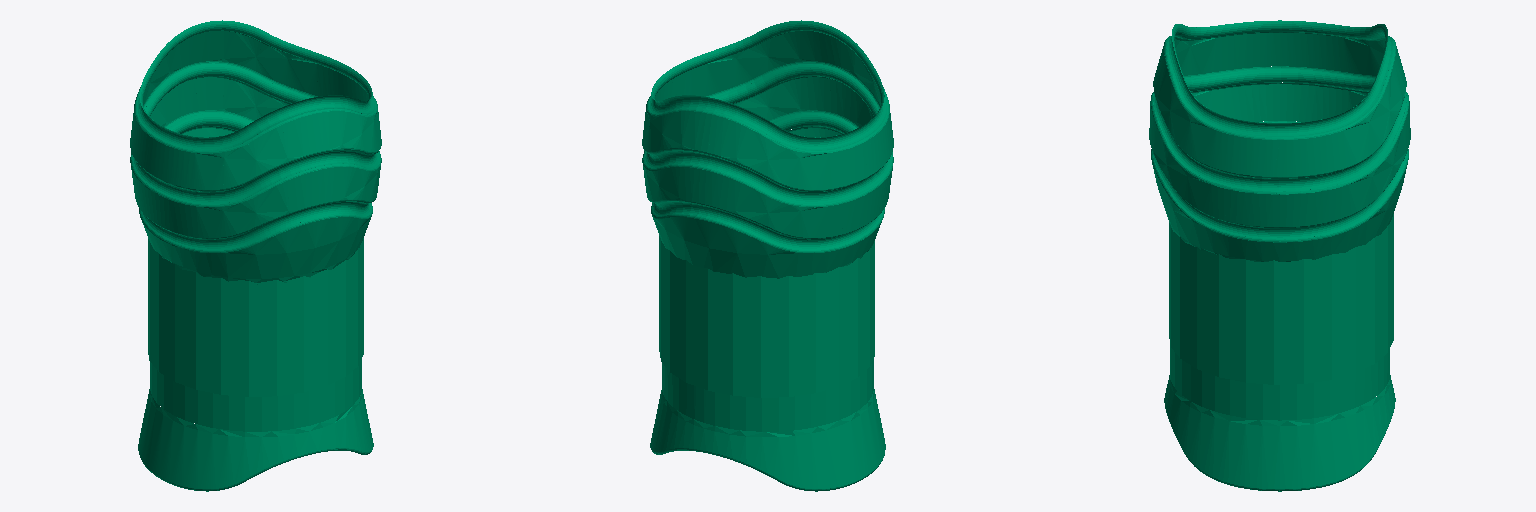
robot.urdf — partnet_f0a5f6d2cf8fcb72c12d8e00a78db6e2:
<?xml version="1.0" ?>
<robot name="partnet_f0a5f6d2cf8fcb72c12d8e00a78db6e2">
	<link name="base"/>
	<link name="link_0">
		<visual name="lid-7">
			<origin xyz="-0.007005959241653967 0 -0.007542109902568375"/>
			<geometry>
				<mesh filename="textured_objs/original-7.obj" scale="0.15 0.15 0.15"/>
			</geometry>
		</visual>
		<collision>
			<origin xyz="-0.007005959241653967 0 -0.007542109902568375"/>
			<geometry>
				<mesh filename="textured_objs/original-7.obj" scale="0.15 0.15 0.15"/>
			</geometry>
		</collision>
	</link>
	<joint name="joint_0" type="continuous">
		<origin xyz="0.0 0 0.0"/>
		<axis xyz="0 1 0"/>
		<child link="link_0"/>
		<parent link="link_0_helper"/>
	</joint>
	<link name="link_1">
		<visual name="body-5">
			<origin xyz="0 0 0"/>
			<geometry>
				<mesh filename="textured_objs/original-4.obj" scale="0.15 0.15 0.15"/>
			</geometry>
		</visual>
		<visual name="body-5">
			<origin xyz="0 0 0"/>
			<geometry>
				<mesh filename="textured_objs/original-3.obj" scale="0.15 0.15 0.15"/>
			</geometry>
		</visual>
		<visual name="body-5">
			<origin xyz="0 0 0"/>
			<geometry>
				<mesh filename="textured_objs/original-8.obj" scale="0.15 0.15 0.15"/>
			</geometry>
		</visual>
		<visual name="body-5">
			<origin xyz="0 0 0"/>
			<geometry>
				<mesh filename="textured_objs/original-6.obj" scale="0.15 0.15 0.15"/>
			</geometry>
		</visual>
		<visual name="body-5">
			<origin xyz="0 0 0"/>
			<geometry>
				<mesh filename="textured_objs/original-2.obj" scale="0.15 0.15 0.15"/>
			</geometry>
		</visual>
		<visual name="neck-6">
			<origin xyz="0 0 0"/>
			<geometry>
				<mesh filename="textured_objs/original-5.obj" scale="0.15 0.15 0.15"/>
			</geometry>
		</visual>
		<collision>
			<origin xyz="0 0 0"/>
			<geometry>
				<mesh filename="textured_objs/original-4.obj" scale="0.15 0.15 0.15"/>
			</geometry>
		</collision>
		<collision>
			<origin xyz="0 0 0"/>
			<geometry>
				<mesh filename="textured_objs/original-3.obj" scale="0.15 0.15 0.15"/>
			</geometry>
		</collision>
		<collision>
			<origin xyz="0 0 0"/>
			<geometry>
				<mesh filename="textured_objs/original-8.obj" scale="0.15 0.15 0.15"/>
			</geometry>
		</collision>
		<collision>
			<origin xyz="0 0 0"/>
			<geometry>
				<mesh filename="textured_objs/original-6.obj" scale="0.15 0.15 0.15"/>
			</geometry>
		</collision>
		<collision>
			<origin xyz="0 0 0"/>
			<geometry>
				<mesh filename="textured_objs/original-2.obj" scale="0.15 0.15 0.15"/>
			</geometry>
		</collision>
		<collision>
			<origin xyz="0 0 0"/>
			<geometry>
				<mesh filename="textured_objs/original-5.obj" scale="0.15 0.15 0.15"/>
			</geometry>
		</collision>
	</link>
	<joint name="joint_1" type="fixed">
		<origin rpy="1.570796326794897 0 -1.570796326794897" xyz="0 0 0"/>
		<child link="link_1"/>
		<parent link="base"/>
	</joint>
	<link name="link_0_helper"/>
	<joint name="joint_2" type="prismatic">
		<origin xyz="0.007005959241653967 0 0.007542109902568375"/>
		<axis xyz="0 1 0"/>
		<child link="link_0_helper"/>
		<parent link="link_1"/>
		<limit lower="0" upper="0.06400000000000006"/>
	</joint>
</robot>

--- Render facts (derived) ---
Views: 3 orthographic renders of the robot side by side, from view 1: azimuth 30°, elevation 25°; view 2: azimuth 150°, elevation 25°; view 3: azimuth 270°, elevation 25°.
Model partnet_f0a5f6d2cf8fcb72c12d8e00a78db6e2 with 4 links and 3 joints (1 continuous, 1 prismatic, 1 fixed), rooted at base, posed every joint at zero.
Links seen in each view (by area): view 1: link_1; view 2: link_1; view 3: link_1.
Boxes of the visible links, left/top/right/bottom form: link_1: left=130, top=20, right=381, bottom=491; link_1: left=642, top=20, right=893, bottom=491; link_1: left=1149, top=20, right=1410, bottom=491.
Size in the robot's own frame: 0.0772 by 0.0772 by 0.1321 metres.
Meshes: 7 distinct files referenced, 3 mesh visuals loaded (3 OBJ); not drawn: 4 (reference not matched to a file when rendering).